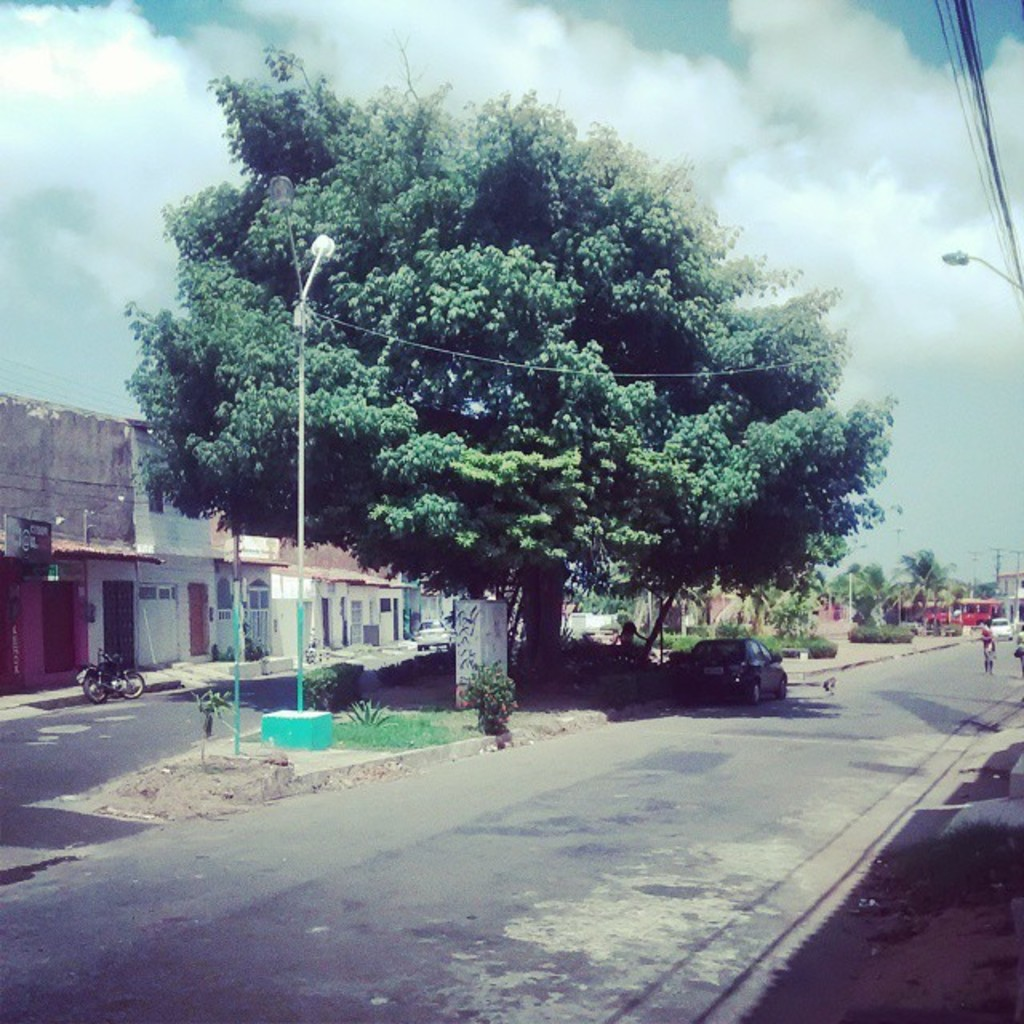Tree: (135, 64, 883, 713), (899, 542, 953, 627), (835, 561, 888, 620)
